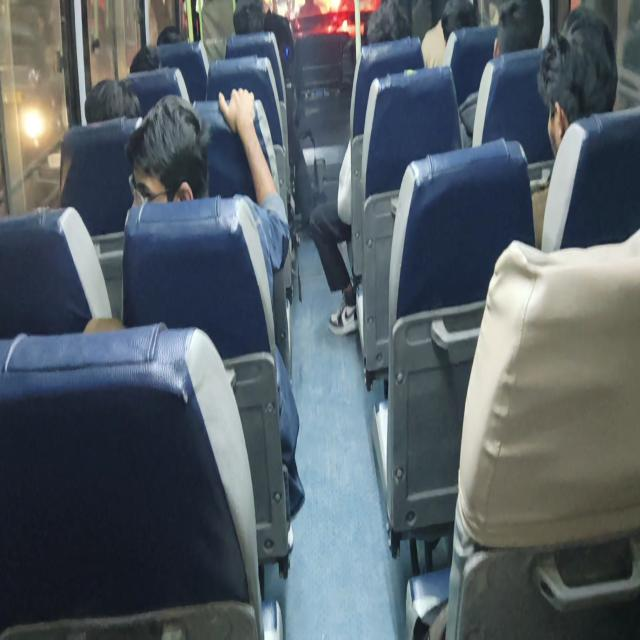person: (539, 10, 629, 149), (143, 118, 213, 202), (70, 73, 155, 134), (489, 0, 552, 64), (362, 0, 437, 53), (122, 27, 176, 74), (443, 0, 496, 44), (147, 8, 187, 44)
